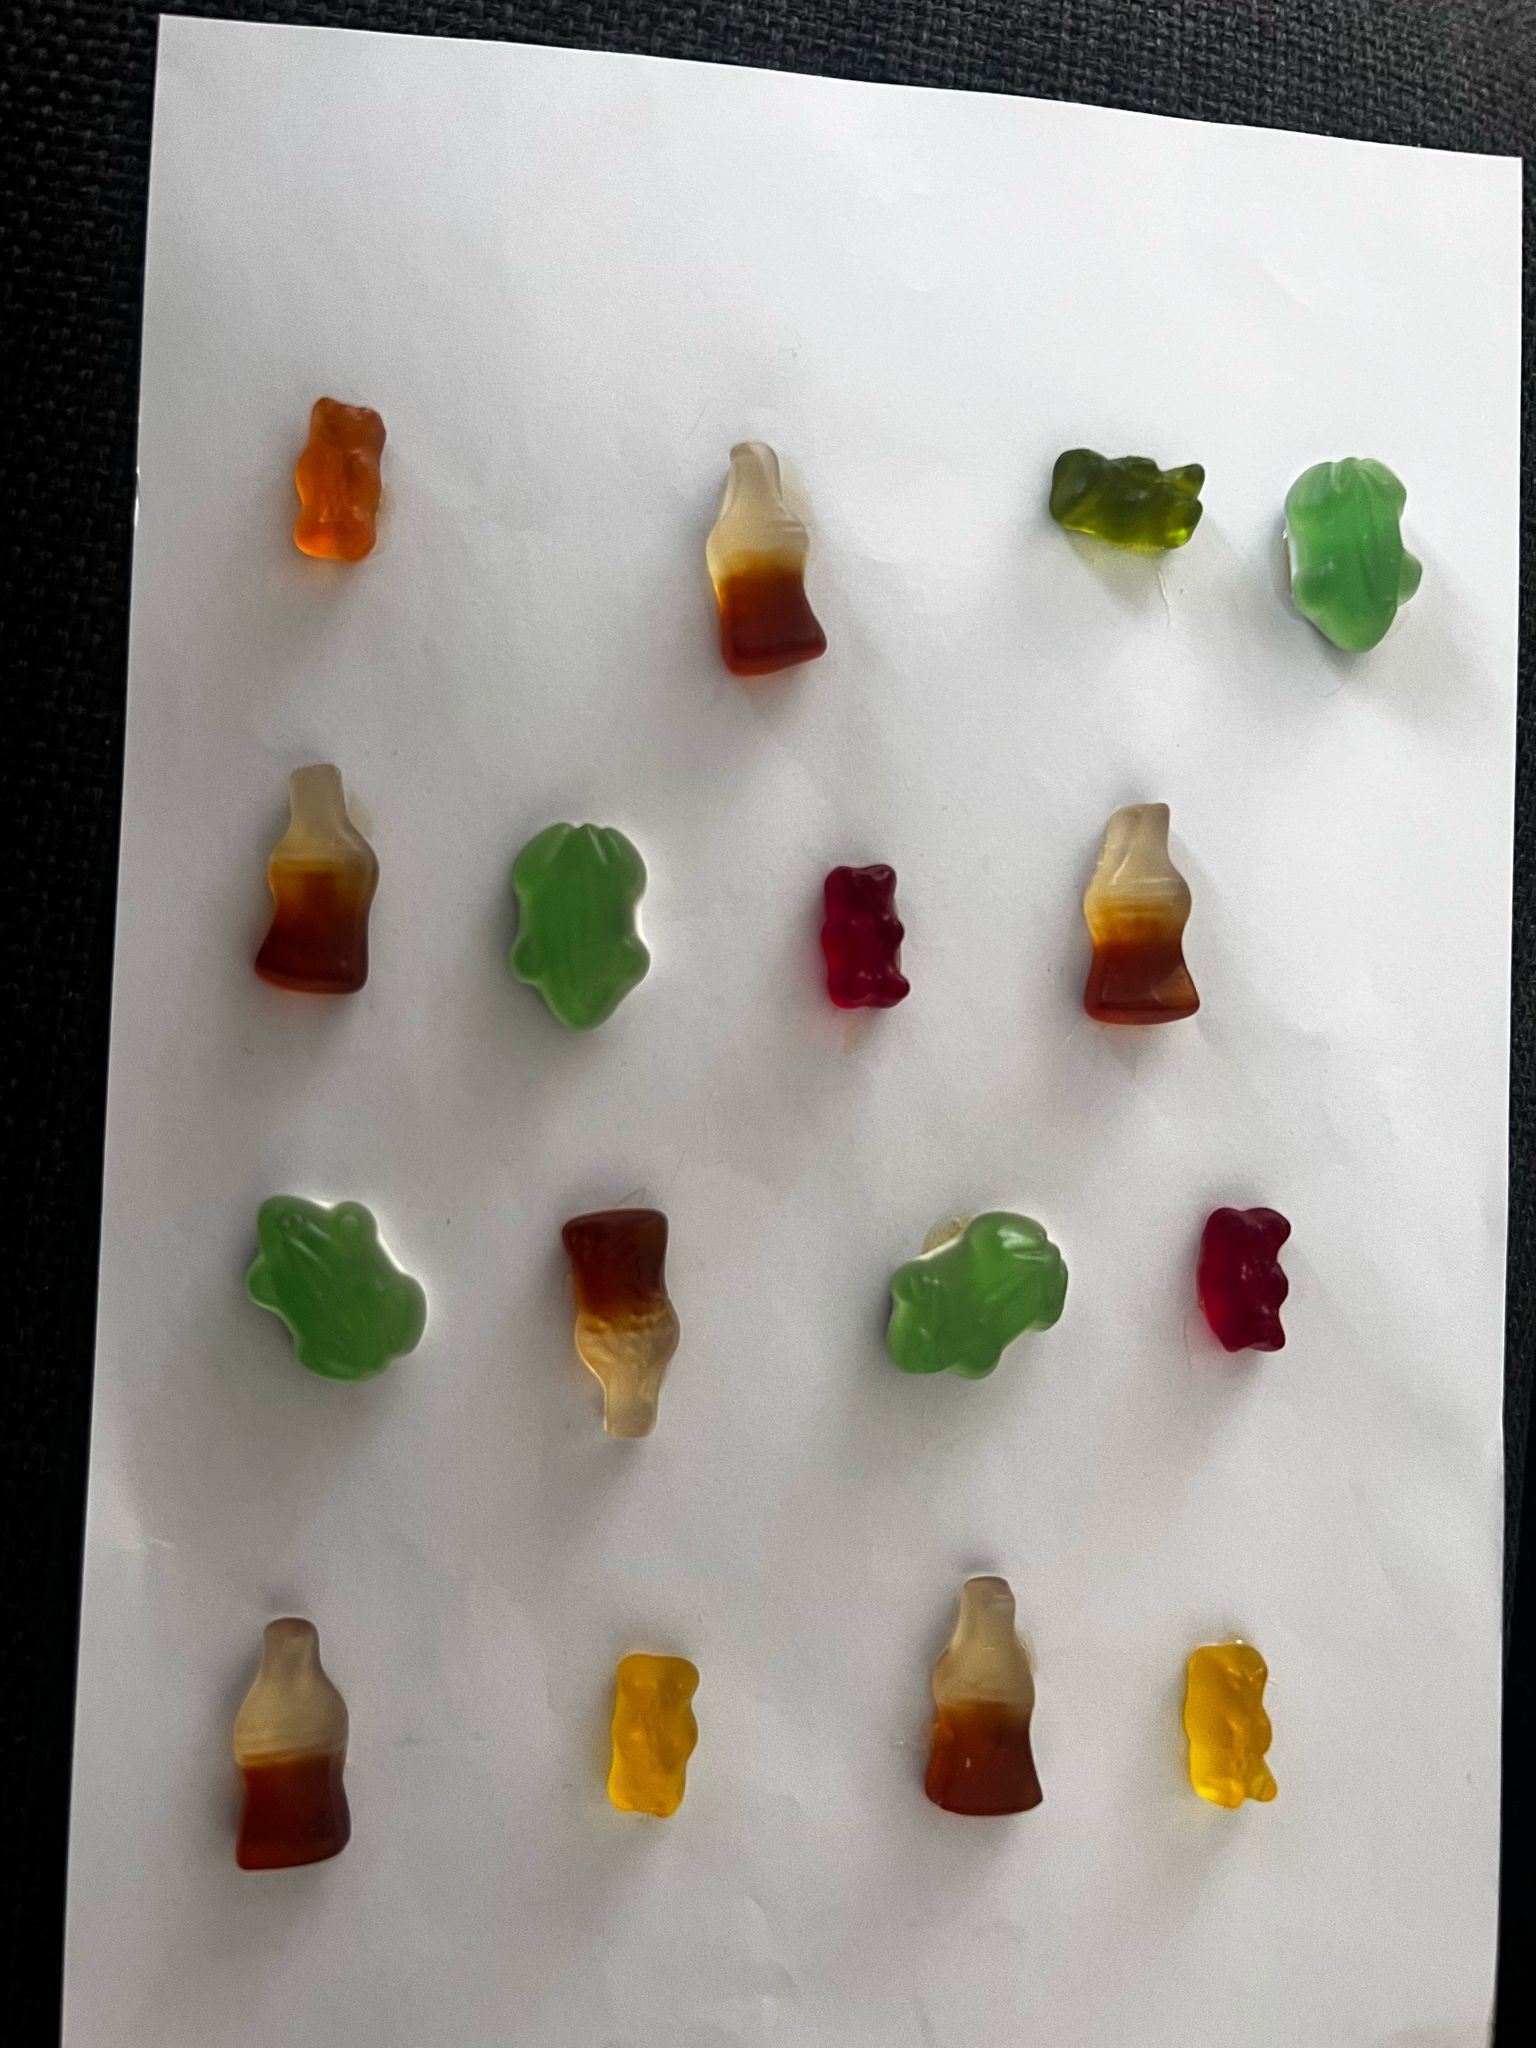cola: (210, 1616, 381, 1879), (544, 1205, 691, 1447), (248, 763, 390, 1013), (695, 426, 833, 677), (920, 1572, 1054, 1824), (1078, 798, 1210, 1039)
frog: (240, 1188, 429, 1392), (879, 1205, 1079, 1387), (500, 818, 658, 1040), (1276, 452, 1438, 663)
gummybear: (269, 385, 413, 577), (1042, 431, 1220, 564), (1176, 1634, 1292, 1824), (805, 855, 925, 1022), (599, 1648, 708, 1822), (1191, 1200, 1302, 1363)
